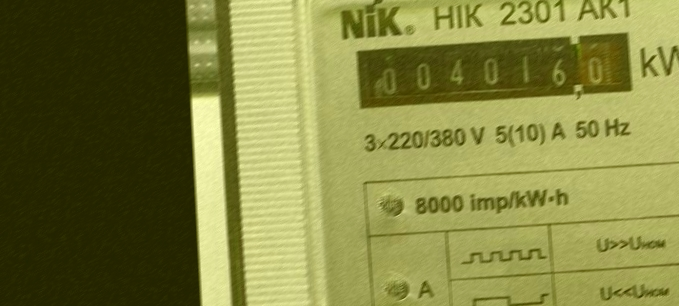0: (481, 50, 504, 86), (379, 60, 402, 94), (414, 56, 435, 91), (585, 50, 607, 83)
1: (519, 48, 536, 82)
4: (448, 51, 468, 86)
6: (549, 51, 570, 84)
screen: (350, 23, 643, 114)
